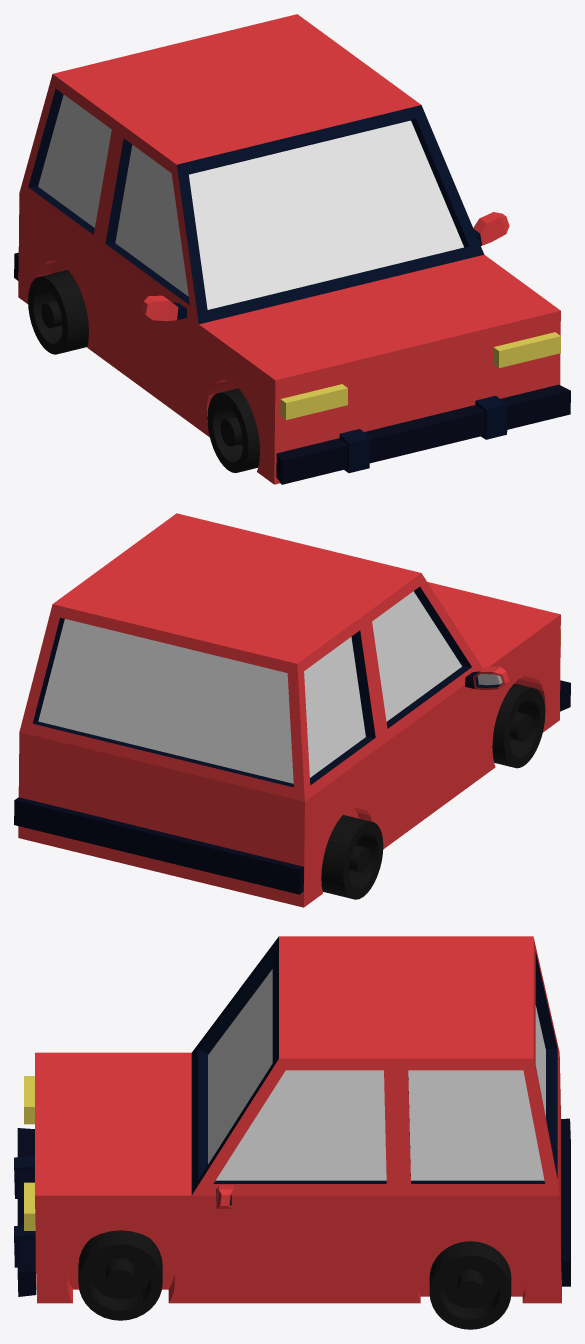
File: car final product.fbx
3 renders of one model, top to bottom at view 1: azimuth 30°, elevation 25°; view 2: azimuth 150°, elevation 25°; view 3: azimuth 270°, elevation 25°, orthographic. The views are drawn at different scales.
Visible parts, largest first — view 1: Car, Cylinder.001; view 2: Car, Cylinder.001; view 3: Car, Cylinder.001.
Boxes of the visible parts, x1=… form: Car: x1=14, y1=14, x2=570, y2=484; Cylinder.001: x1=28, y1=270, x2=259, y2=472; Car: x1=14, y1=513, x2=570, y2=907; Cylinder.001: x1=321, y1=683, x2=545, y2=899; Car: x1=14, y1=936, x2=570, y2=1303; Cylinder.001: x1=78, y1=1230, x2=511, y2=1329.
Bounding box in the file's own units: 255 × 165 × 330.
